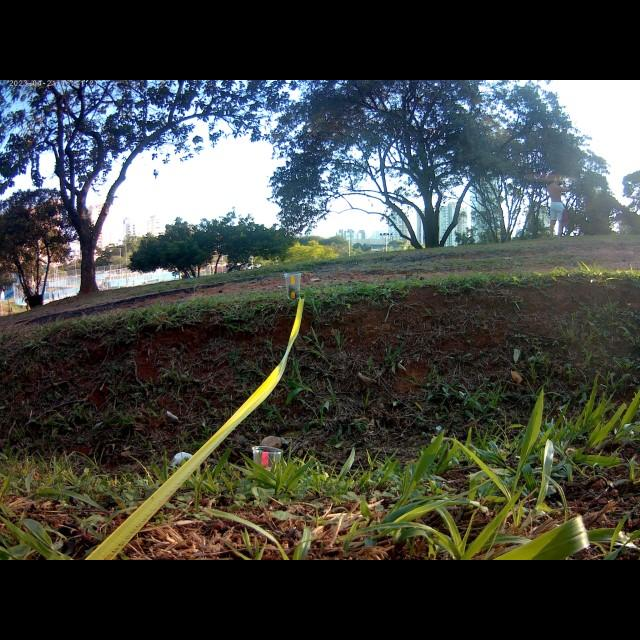ravina: (2, 279, 640, 461)
